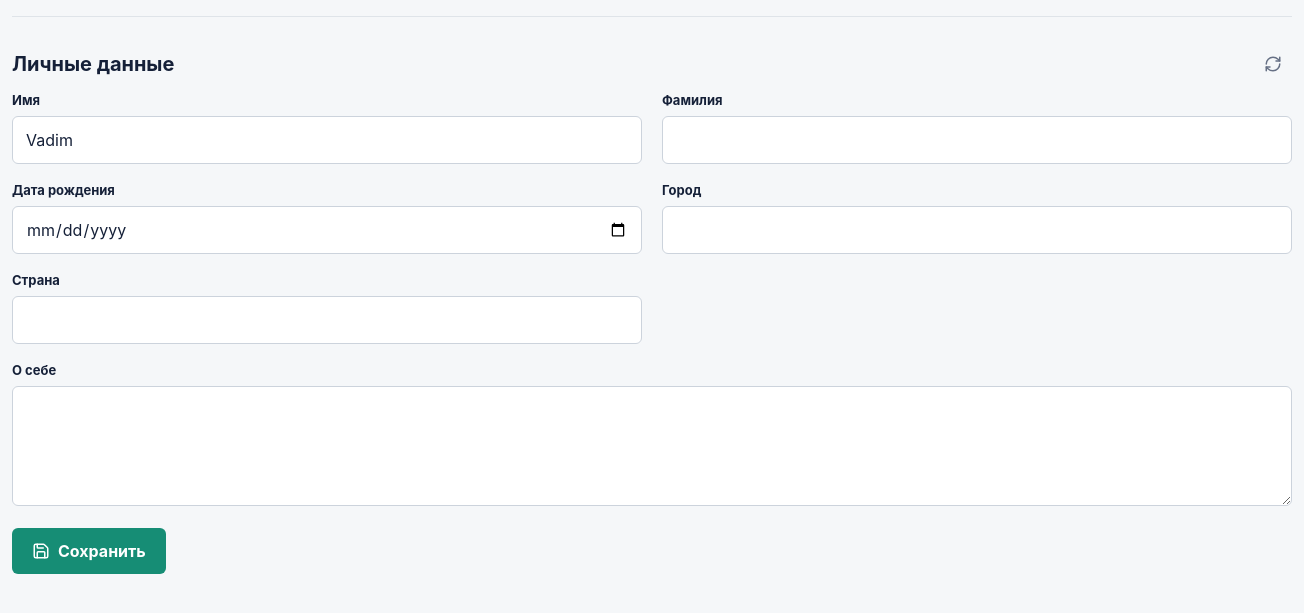
Scenario: save failure retains the draft
Check: the field showing "Vadim" is shown, box [12,116,642,164]
Click the button "Сохранить" at (89,551), box [12,528,166,574]
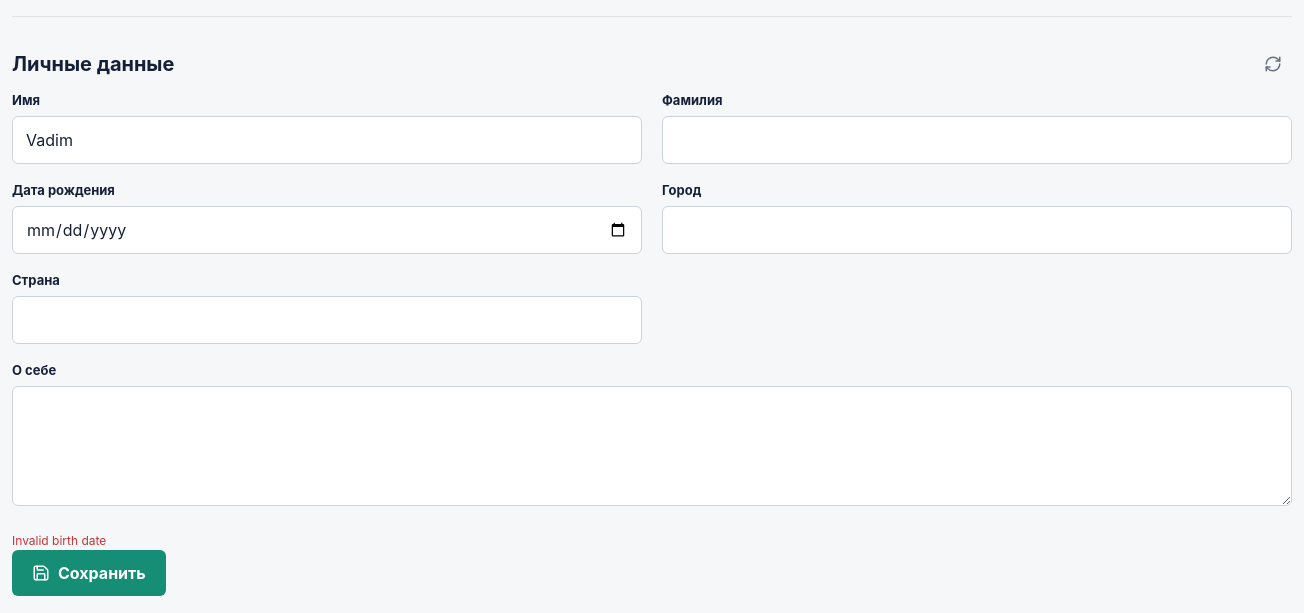
Check: the field labelled "Имя" holds "Vadim", box [12,116,642,164]
Check: the message reads "Invalid birth date", box [12,533,106,548]
